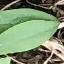Purslane: (0, 19, 14, 64)
